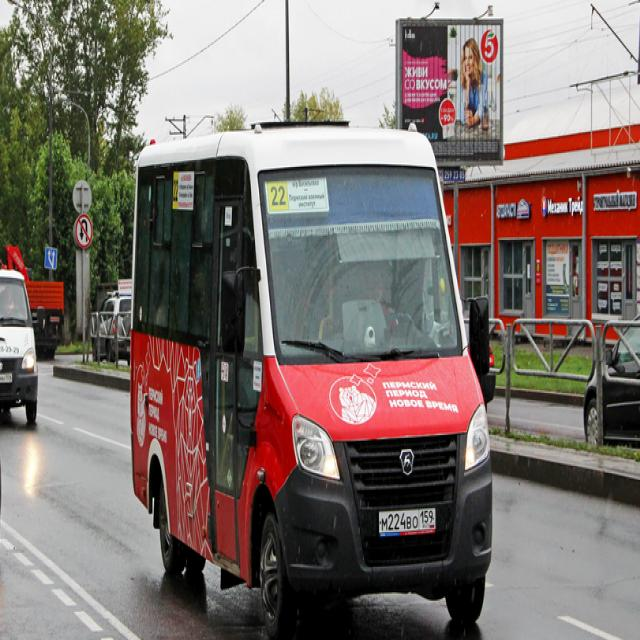non emergency car: (130, 122, 494, 640), (584, 319, 640, 451), (1, 272, 40, 421), (93, 291, 133, 366)
